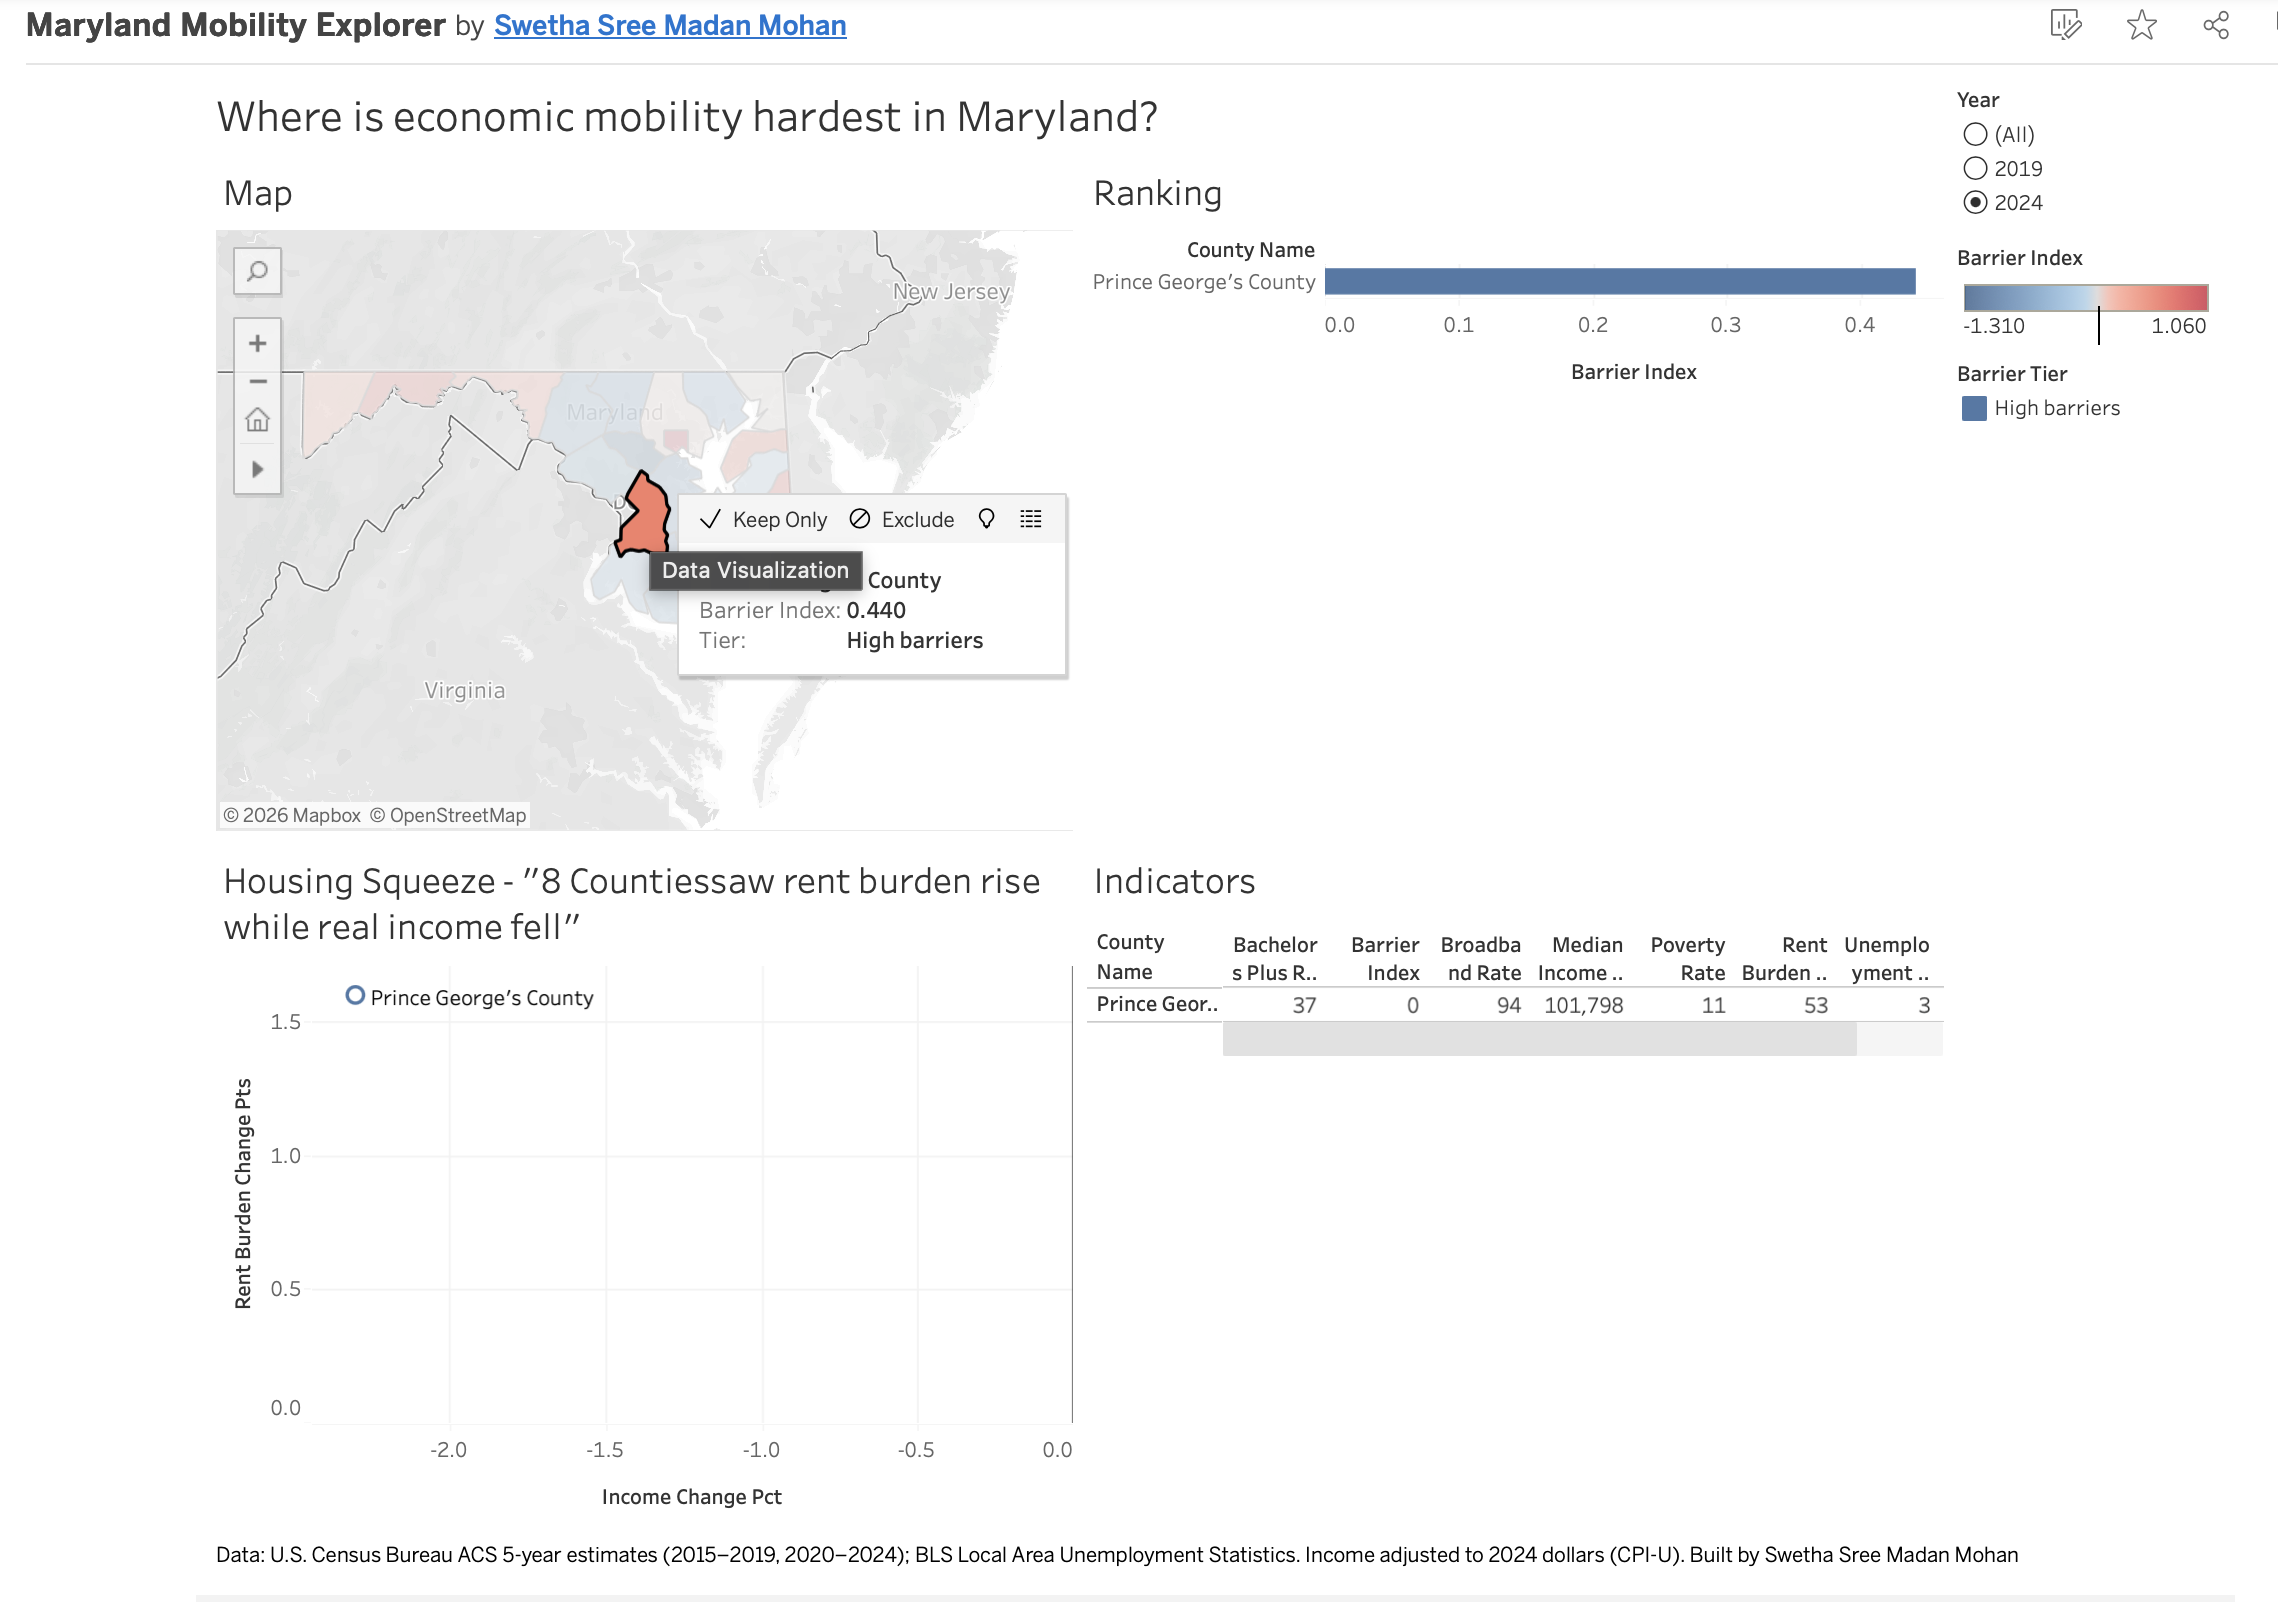

Layout of this report page (visuals, bound fields, positions):
{"tool":"tableau","page":{"name":"Maryland Mobility Explorer","canvas":[1200,900],"ordinal":0},"visuals":[{"type":"title","box":[8,8,1024,42]},{"type":"filter","title":"Map","param":"[federated.1kteact0c1b6u919dqk8s029ai8r].[none:year:ok]","box":[1032,8,160,89]},{"type":"worksheet","title":"Map","mark":"Multipolygon","box":[8,50,512,405]},{"type":"worksheet","title":"Ranking","mark":"Automatic","rows":["county_name"],"cols":["barrier_index"],"box":[520,50,512,405]},{"type":"legend","title":"Map","param":"[federated.1kteact0c1b6u919dqk8s029ai8r].[sum:barrier_index:qk]","box":[1032,97,160,65]},{"type":"legend","title":"Ranking","param":"[federated.1kteact0c1b6u919dqk8s029ai8r].[none:barrier_tier:nk]","box":[1032,162,160,86]},{"type":"worksheet","title":"Housing Squeeze - \"8 Countiessaw rent burden rise while real income fell\"","mark":"Automatic","rows":["rent_burden_change_pts"],"cols":["income_change_pct"],"box":[8,455,512,405]},{"type":"worksheet","title":"Indicators","mark":"Automatic","rows":["county_name"],"box":[520,455,512,405]},{"type":"text","box":[8,860,1184,32]}]}

Visuals, with their boxes on the page's 1200x900 design canvas (x1, y1, x2, y2). These are canvas units, not pixel positions in the 2278x1602 screenshot, which may show the page scaled, cropped or inside an application window:
title: {"x1": 8, "y1": 8, "x2": 1032, "y2": 50}
"Map" filter: {"x1": 1032, "y1": 8, "x2": 1192, "y2": 97}
"Map" worksheet (Multipolygon marks): {"x1": 8, "y1": 50, "x2": 520, "y2": 455}
"Ranking" worksheet: {"x1": 520, "y1": 50, "x2": 1032, "y2": 455}
"Map" legend: {"x1": 1032, "y1": 97, "x2": 1192, "y2": 162}
"Ranking" legend: {"x1": 1032, "y1": 162, "x2": 1192, "y2": 248}
"Housing Squeeze - "8 Countiessaw rent burden rise while real income fell"" worksheet: {"x1": 8, "y1": 455, "x2": 520, "y2": 860}
"Indicators" worksheet: {"x1": 520, "y1": 455, "x2": 1032, "y2": 860}
text: {"x1": 8, "y1": 860, "x2": 1192, "y2": 892}
